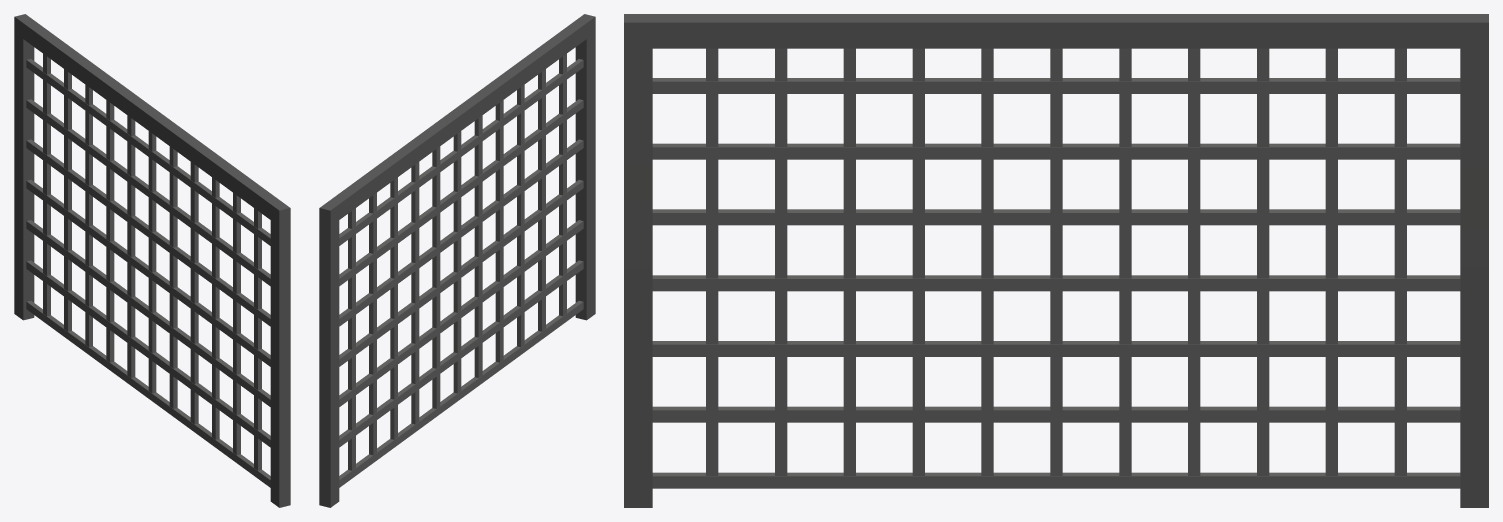
File: Fence_1_F_3.glb
The picture shows the model from 3 angles, left to right: view 1: azimuth 30°, elevation 25°; view 2: azimuth 150°, elevation 25°; view 3: azimuth 270°, elevation 25°; orthographic projection. The views are drawn at different scales.
Visible parts, largest first — view 1: Fence_1_F_3; view 2: Fence_1_F_3; view 3: Fence_1_F_3.
Part boxes in pixels (left/top/right/bottom): Fence_1_F_3: left=14, top=14, right=290, bottom=507; Fence_1_F_3: left=319, top=14, right=595, bottom=507; Fence_1_F_3: left=624, top=14, right=1488, bottom=507.
Size of the model in its own units: 0.096 by 2.48 by 4.
1 material, 1 textured.
